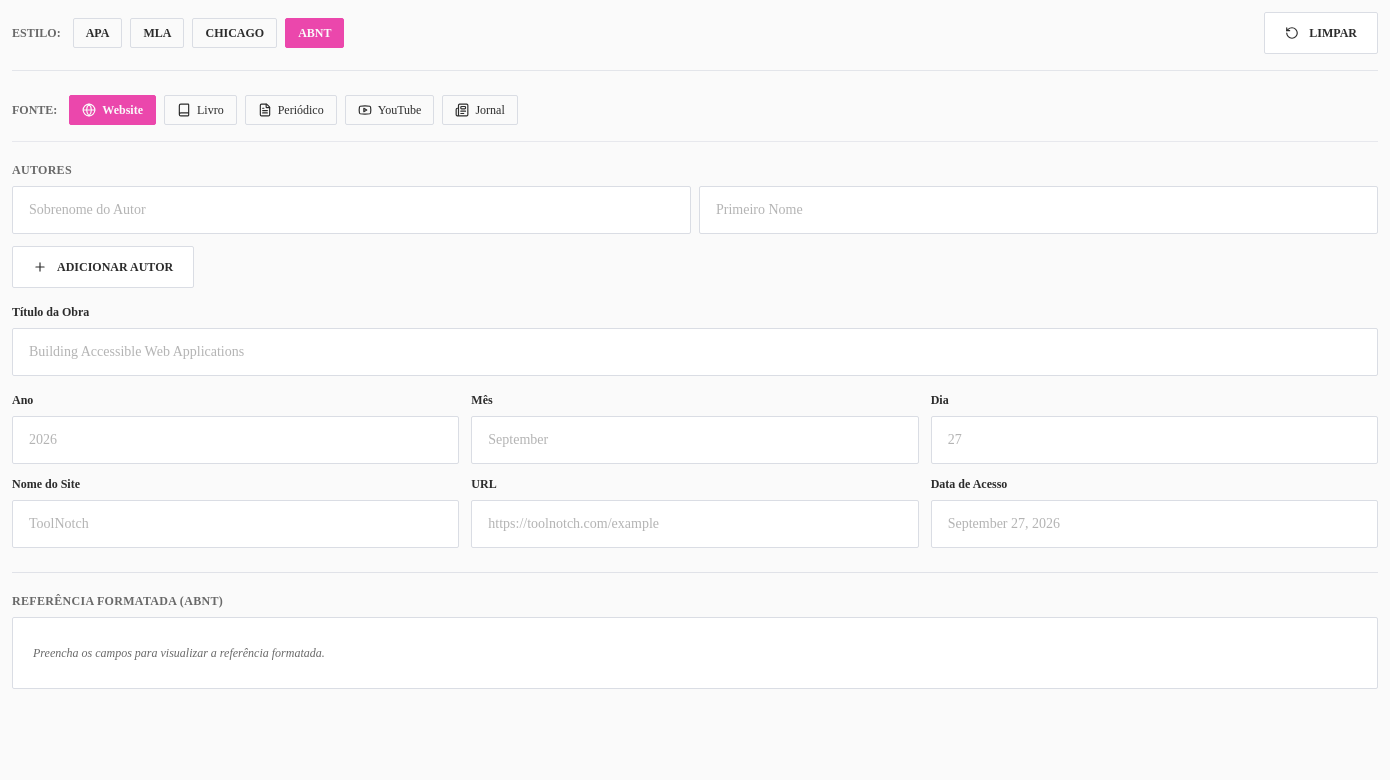
it: Education Tools Components › AppCitationGenerator › formats website citation correctly in APA style
Click the button "APA" at (98, 33), box [73,18,122,48]
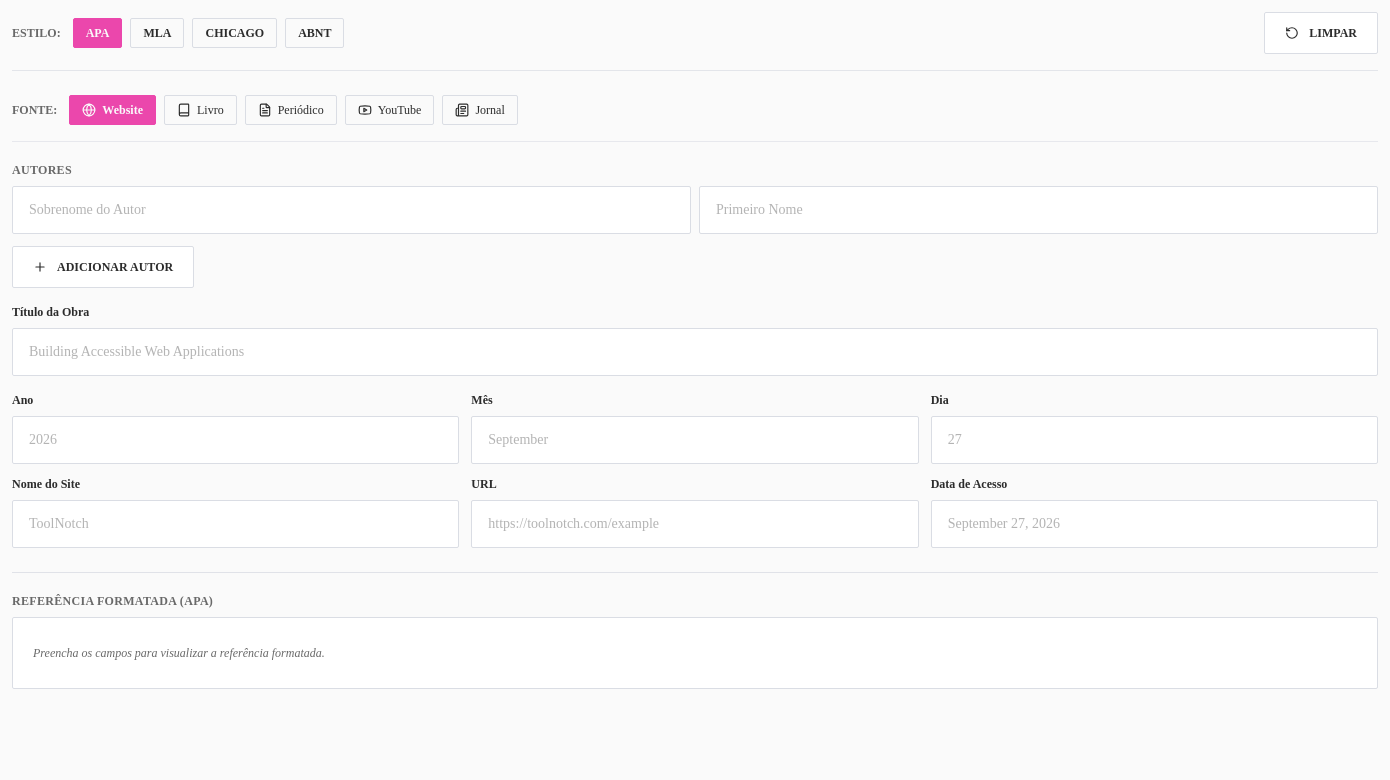
Type "Deep Learning Foundations" into the field labelled "Título da Obra" at (695, 352), box [12,328,1378,376]
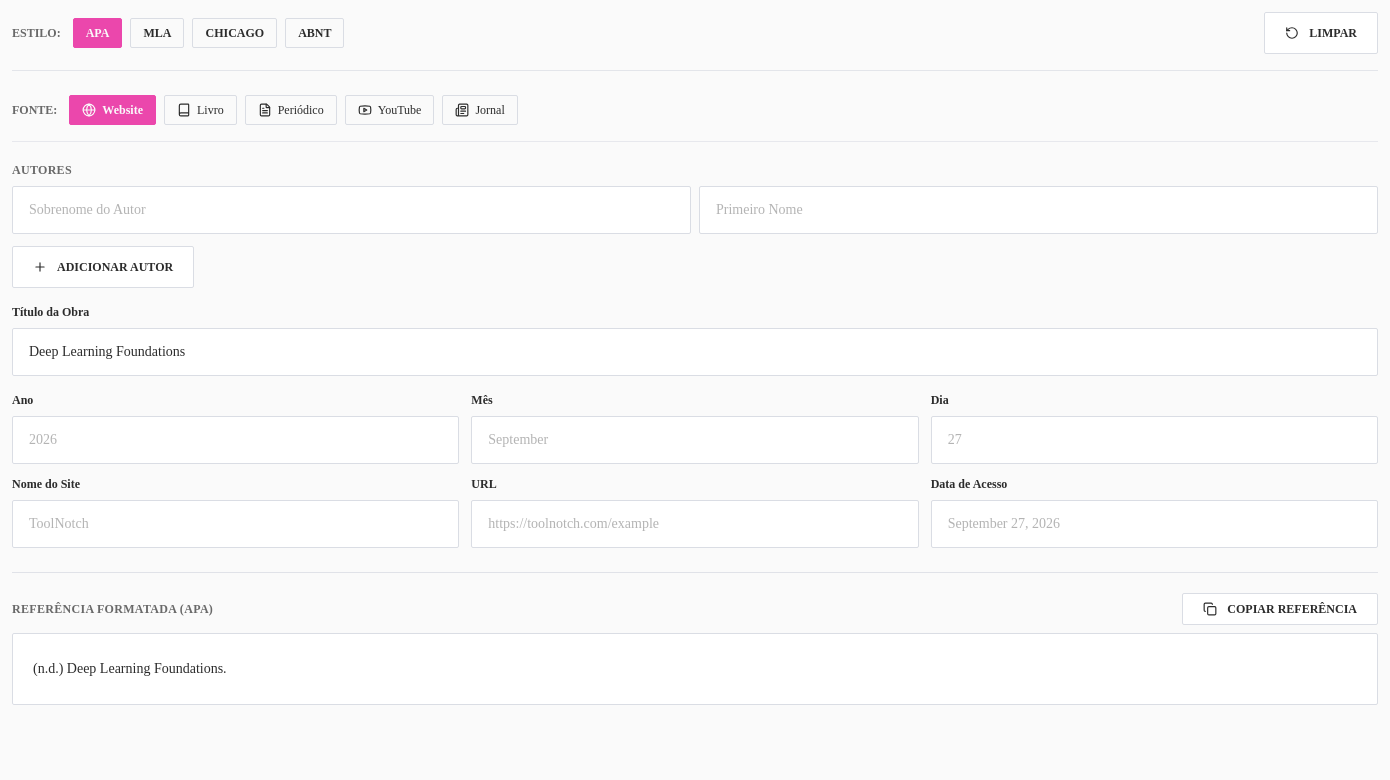
Expected: the text "(n.d.) Deep Learning Foundations." is shown, [33,658,227,680]
